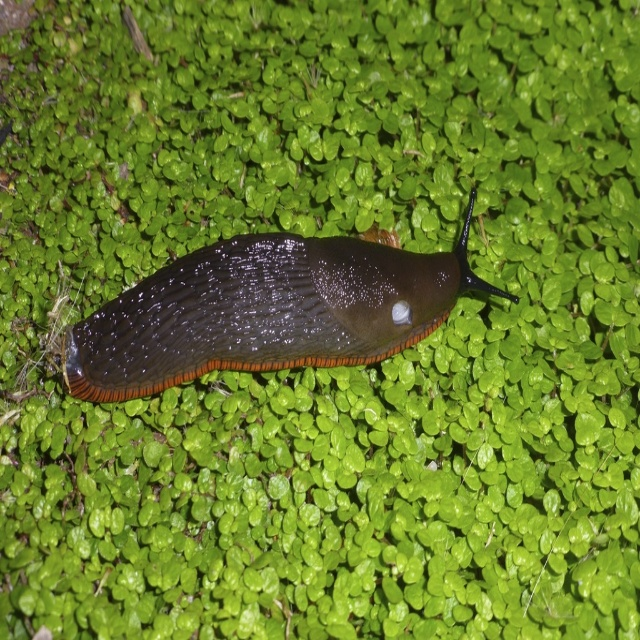Snail: (46, 188, 519, 403)
